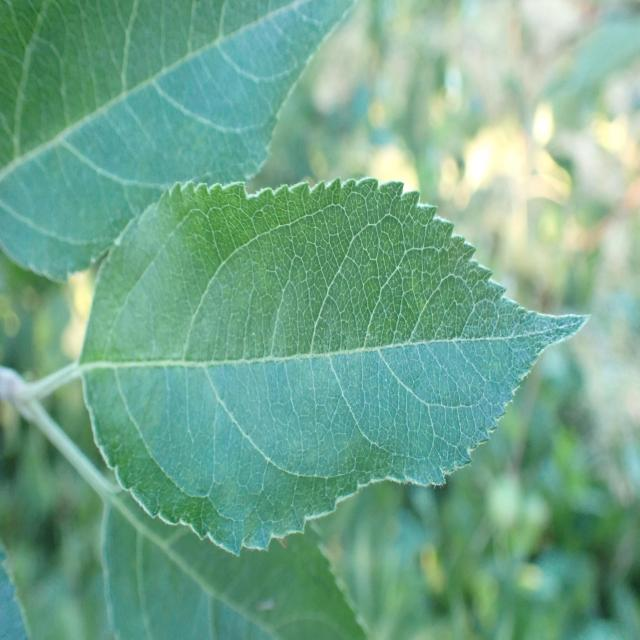healthy: (79, 175, 592, 556), (0, 0, 358, 284), (102, 499, 370, 640)
